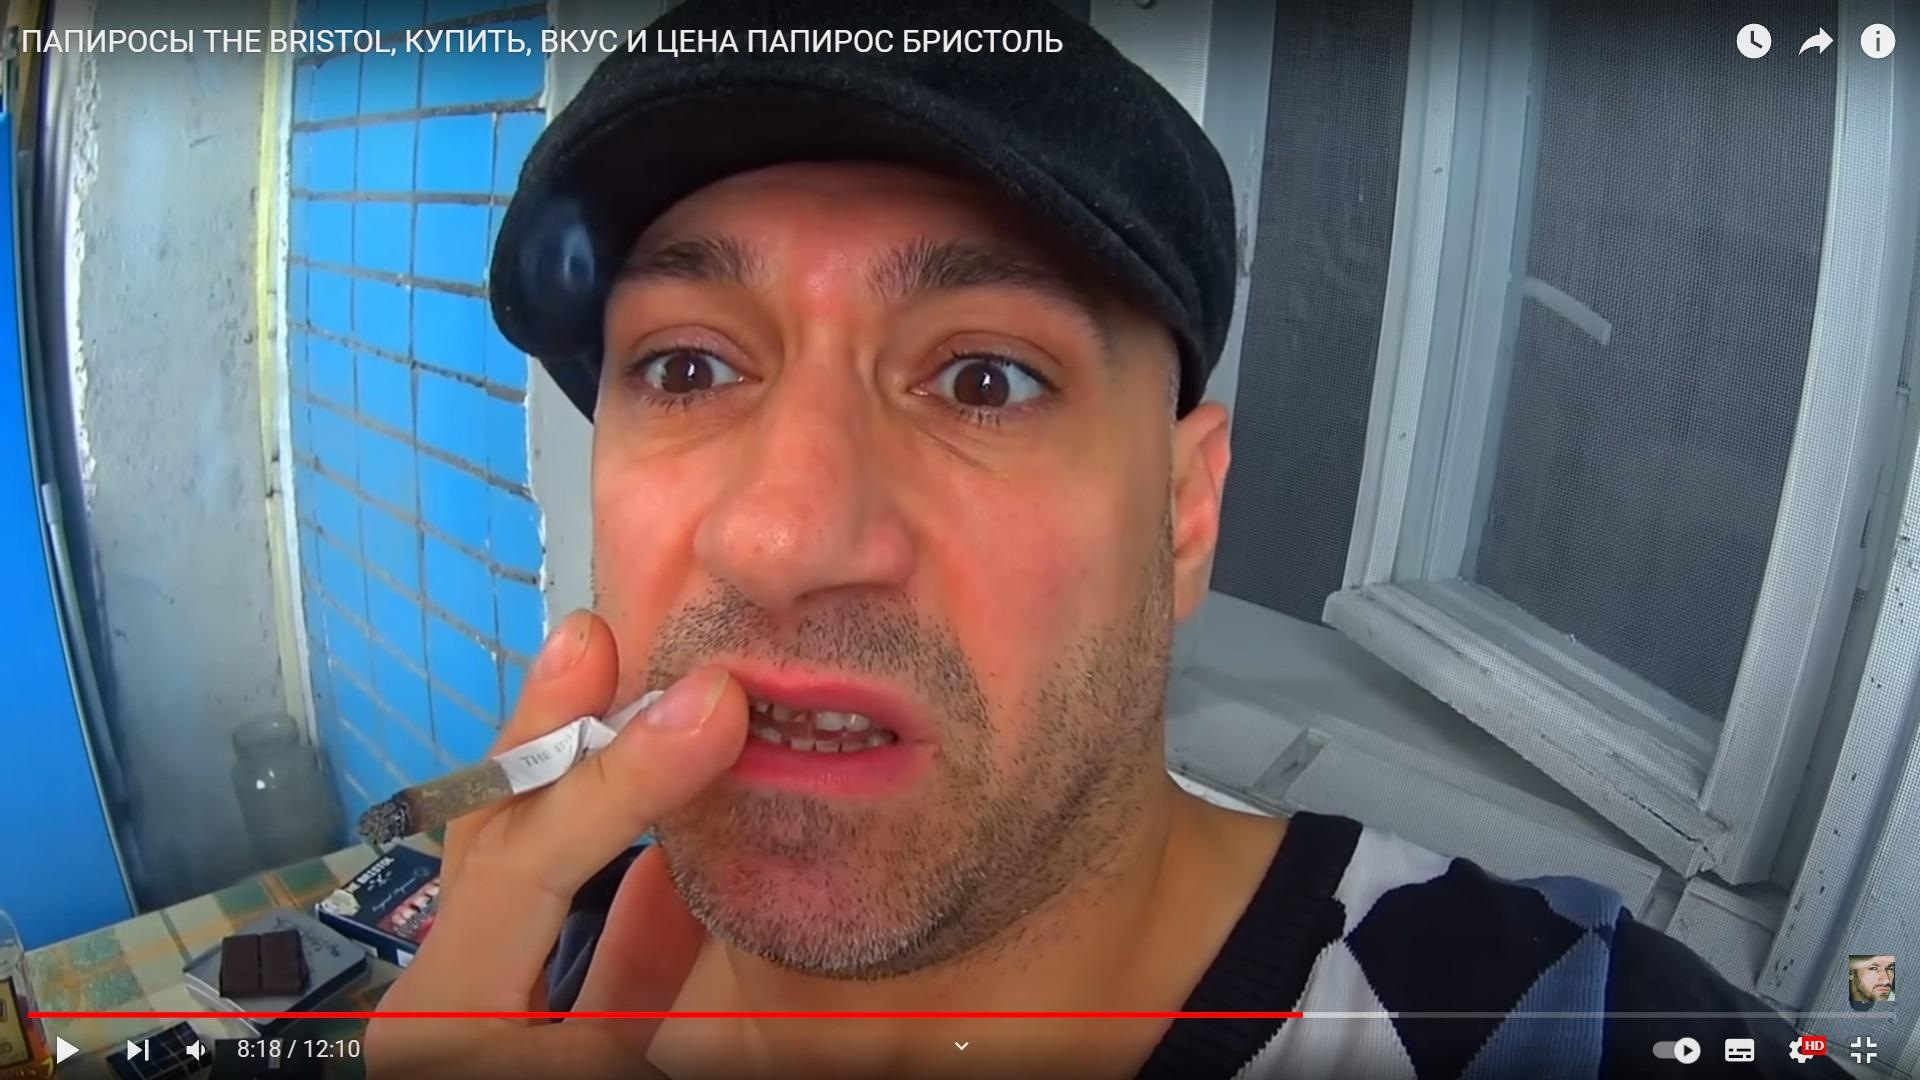cigarette: (355, 690, 669, 847)
